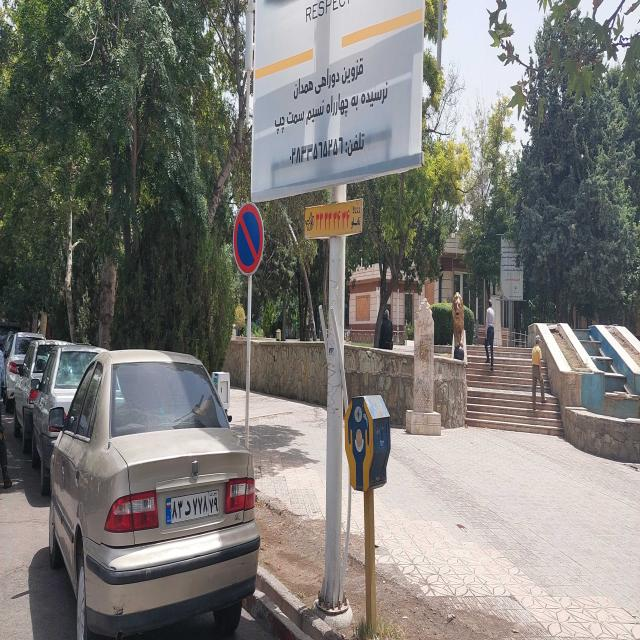forb_stopping: (233, 204, 263, 275)
